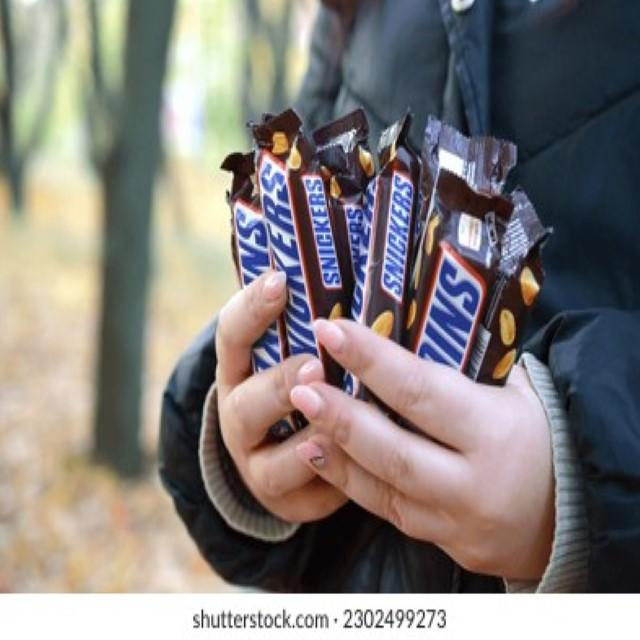snickers_chocolate: (250, 135, 367, 355), (228, 137, 293, 380), (357, 123, 425, 343), (417, 202, 507, 363)
